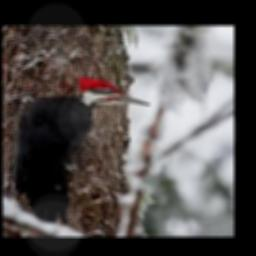Woodpecker: (19, 76, 150, 224)
